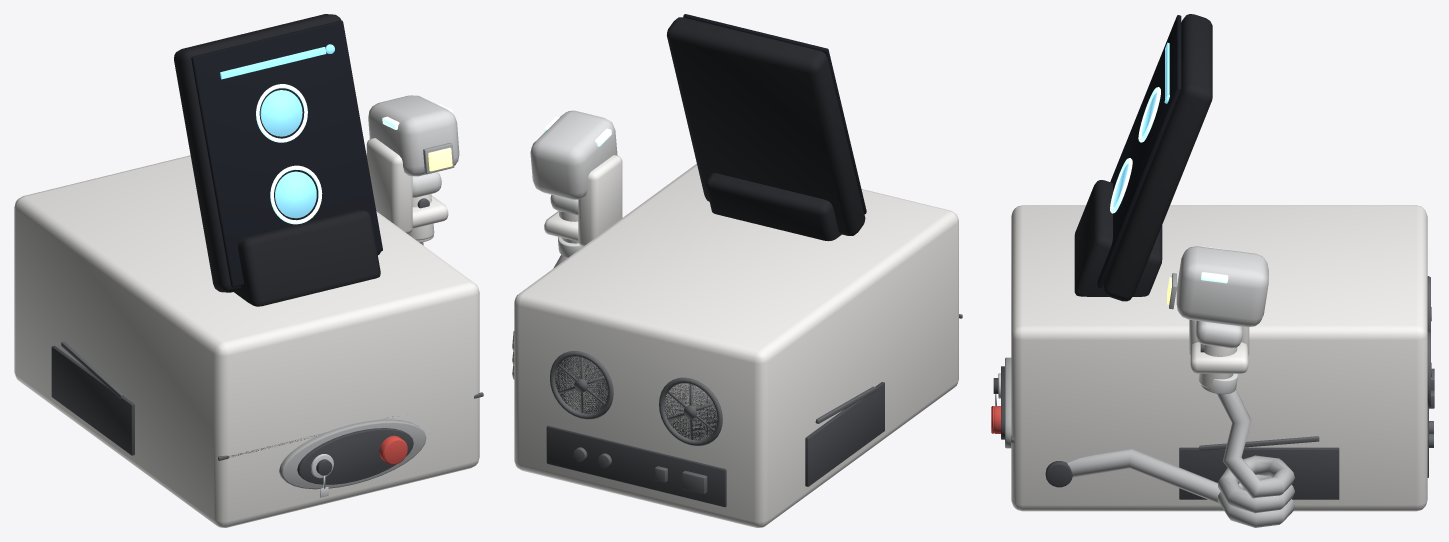
Rendered from aurum-laser-machine-v4-backup.glb.
3 renders of one model, left to right at view 1: azimuth 30°, elevation 25°; view 2: azimuth 150°, elevation 25°; view 3: azimuth 270°, elevation 25°, orthographic. The views are drawn at different scales.
Parts seen in each view (by area): view 1: Body, ScreenGlass, ScreenNeck, ScreenBezel, HpHead, VentLInset, FrontPlateIn, HolBack, FrontPlate, UIfill0, UIfill1, UIstatus (+4 smaller); view 2: Body, ScreenBezel, RearPanel, HpHead, ScreenNeck, VentLInset, HolBack, FanRRecess, FanLRecess, ScreenGlass, FanRRim, FanLRim (+1 smaller); view 3: Body, ScreenBezel, Cable, HpHead, ScreenGlass, VentRInset, ScreenNeck, HolLower, HpNeck, FrontPlate, HpHandle, VentRSlot (+1 smaller).
Boxes of the visible parts, <box> form: Body: <box>14,155,479,527</box>; ScreenGlass: <box>191,20,382,287</box>; ScreenNeck: <box>234,210,380,306</box>; ScreenBezel: <box>174,14,380,292</box>; HpHead: <box>368,95,459,176</box>; VentLInset: <box>51,345,134,455</box>; FrontPlateIn: <box>297,428,413,484</box>; HolBack: <box>366,138,412,233</box>; FrontPlate: <box>279,419,426,489</box>; UIfill0: <box>260,90,302,136</box>; UIfill1: <box>275,171,316,218</box>; UIstatus: <box>220,47,326,79</box>; Body: <box>514,163,958,527</box>; ScreenBezel: <box>666,17,865,235</box>; RearPanel: <box>546,425,726,507</box>; HpHead: <box>530,110,617,199</box>; ScreenNeck: <box>705,173,841,241</box>; VentLInset: <box>805,382,884,486</box>; HolBack: <box>578,155,622,246</box>; FanRRecess: <box>555,356,608,413</box>; FanLRecess: <box>664,383,717,440</box>; ScreenGlass: <box>683,14,866,214</box>; FanRRim: <box>550,351,613,419</box>; FanLRim: <box>659,377,722,445</box>; Body: <box>1011,205,1427,511</box>; ScreenBezel: <box>1103,14,1212,301</box>; Cable: <box>1067,389,1294,527</box>; HpHead: <box>1176,246,1268,327</box>; ScreenGlass: <box>1097,15,1181,288</box>; VentRInset: <box>1179,447,1339,499</box>; ScreenNeck: <box>1074,180,1162,296</box>; HolLower: <box>1190,342,1248,373</box>; HpNeck: <box>1196,321,1242,348</box>; FrontPlate: <box>1005,357,1011,448</box>; HpHandle: <box>1198,345,1237,388</box>; VentRSlot: <box>1199,436,1319,450</box>.
Bounding box in the file's own units: 0.5038 × 0.5529 × 0.554.
